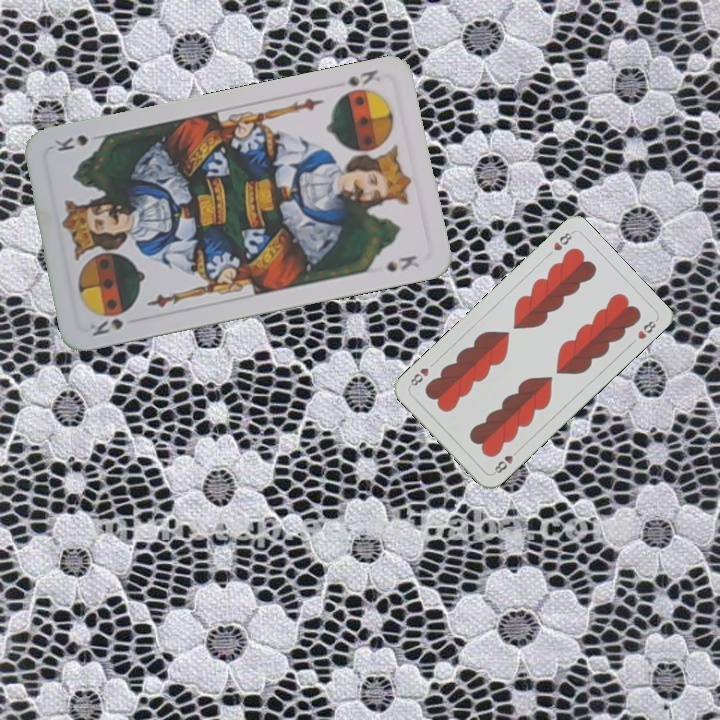H8: (489, 445, 522, 477), (549, 228, 575, 253)
SK: (88, 307, 130, 339), (342, 65, 383, 89)
